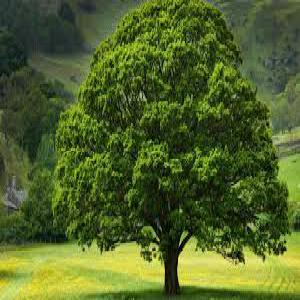Tree: (51, 4, 292, 291)
